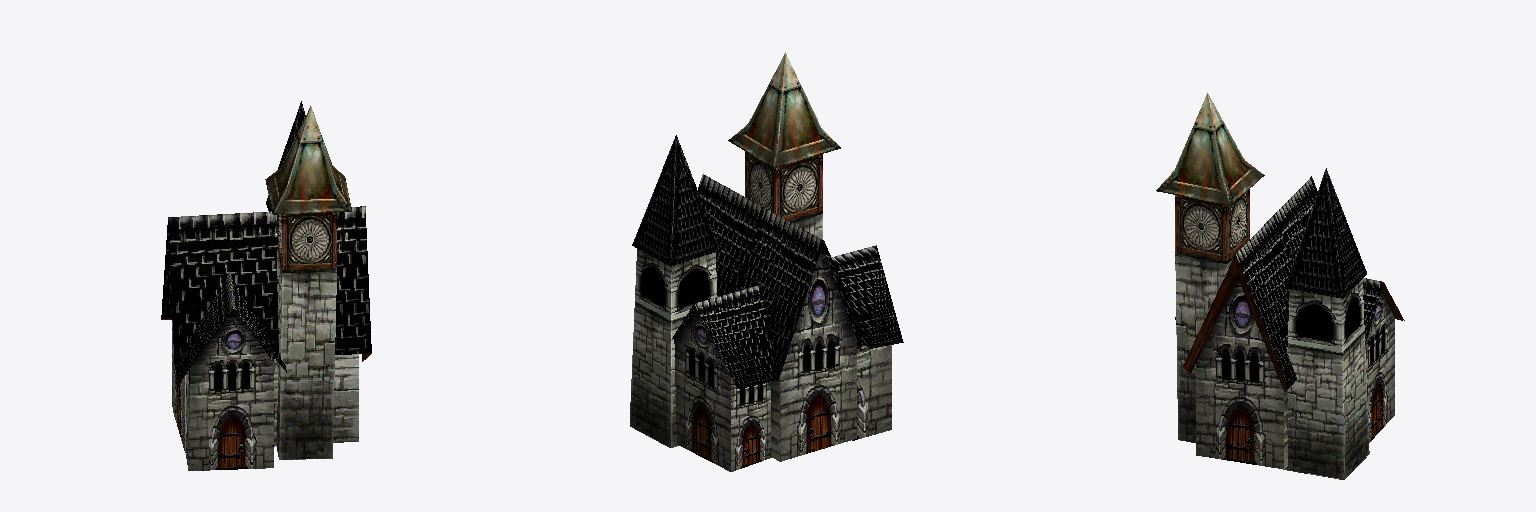
3 renders of one model, left to right at view 1: azimuth 30°, elevation 25°; view 2: azimuth 150°, elevation 25°; view 3: azimuth 270°, elevation 25°, orthographic.
Visible parts, largest first — view 1: Converted_object_17(m0); view 2: Converted_object_17(m0); view 3: Converted_object_17(m0).
Part boxes in pixels (x1,y1,x2,y2): Converted_object_17(m0): (161, 101, 371, 470); Converted_object_17(m0): (630, 52, 903, 471); Converted_object_17(m0): (1156, 93, 1404, 479).
Bounding box in the file's own units: 8.26 × 12.76 × 8.35.
Materials: 1 (1 with a texture image).